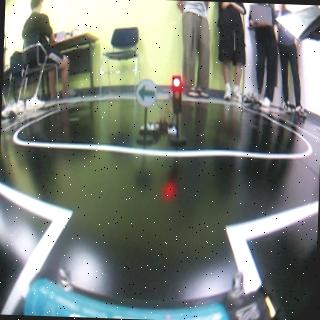left: (137, 80, 157, 104)
red: (169, 76, 185, 148)
